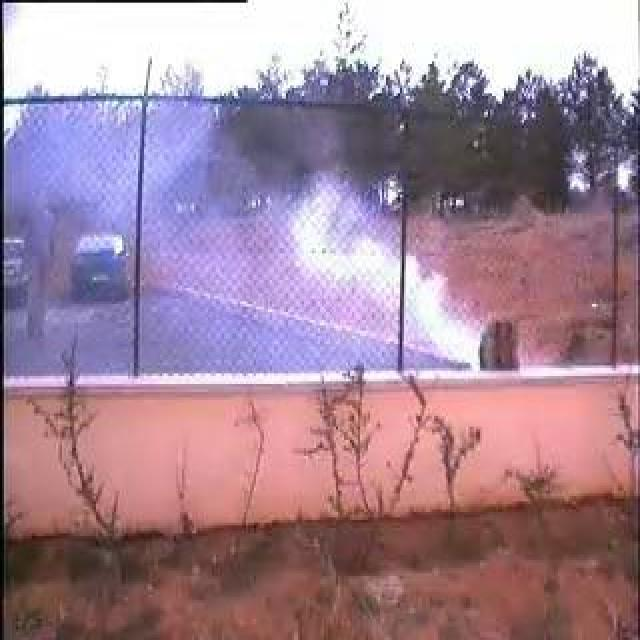Smoke: (130, 103, 484, 372)
